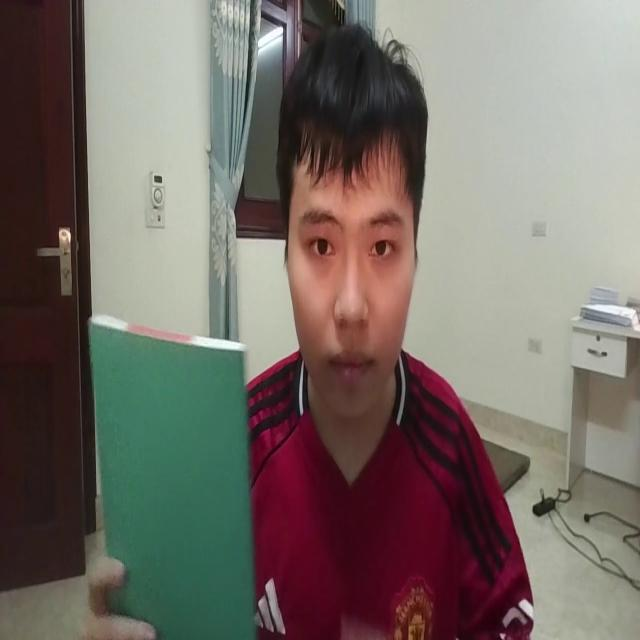book: (83, 311, 262, 640)
student: (229, 9, 531, 640)
